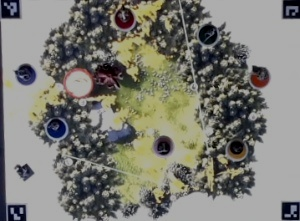blue: (44, 114, 67, 143)
green: (197, 21, 219, 46)
orange: (247, 64, 271, 89)
pink: (151, 132, 174, 159)
red: (111, 5, 139, 31)
violet: (13, 62, 39, 89)
yellow: (222, 135, 248, 161)
